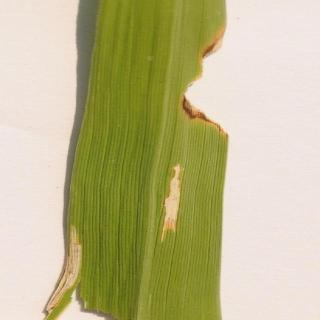Hawar-Daun: (130, 59, 212, 318), (162, 2, 239, 154), (42, 164, 106, 320)
